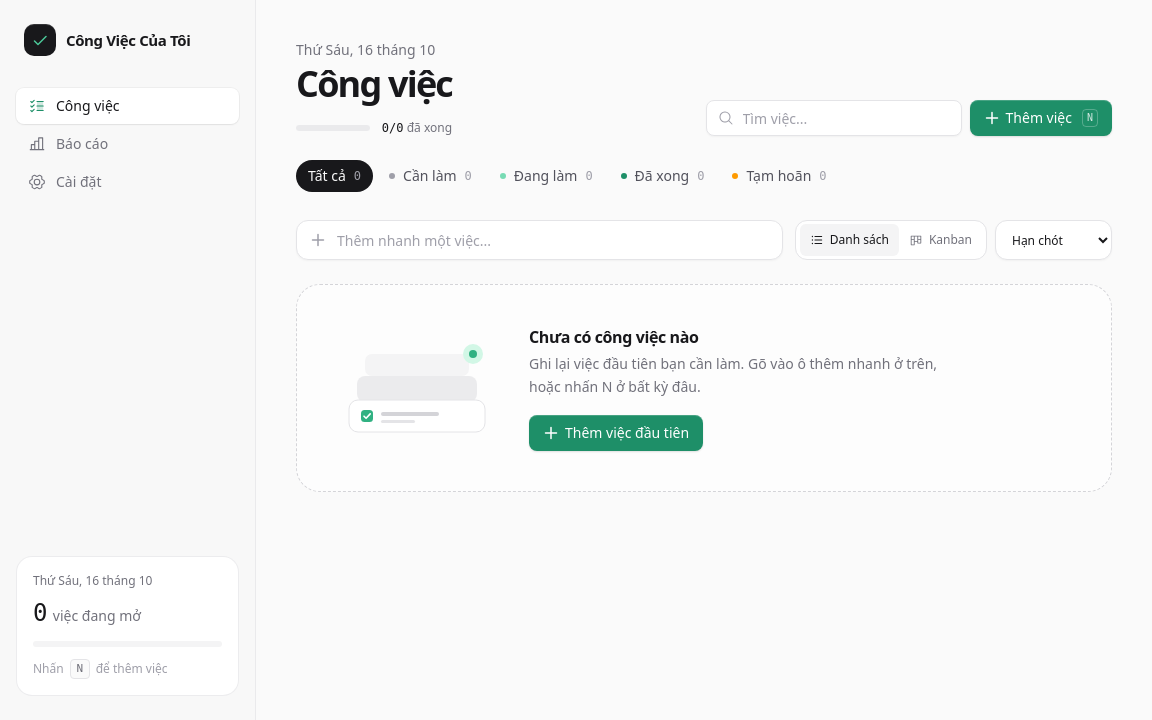
tạo / sửa công việc › thêm nhanh bằng Enter
In the field named "Thêm nhanh công việc": {"x": 539, "y": 240} left=296, top=220, right=783, bottom=260, type "Mua sữa"
Then press Enter
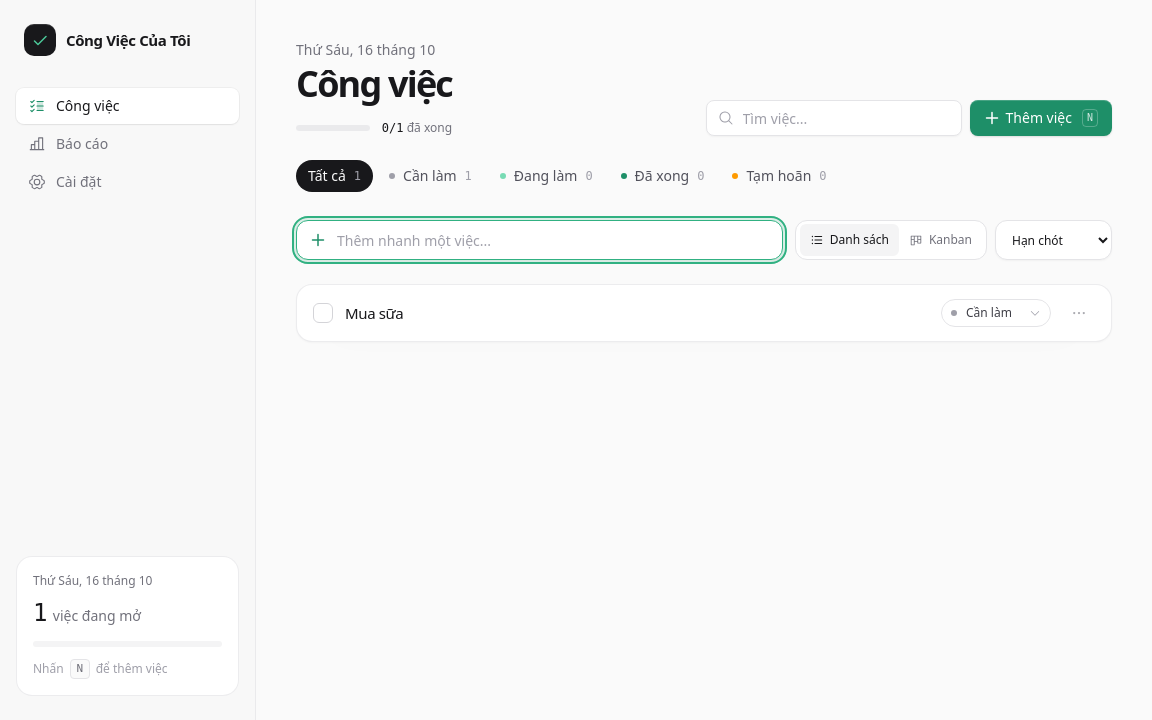
Expected: the button "Mua sữa" is shown, left=345, top=302, right=403, bottom=324
